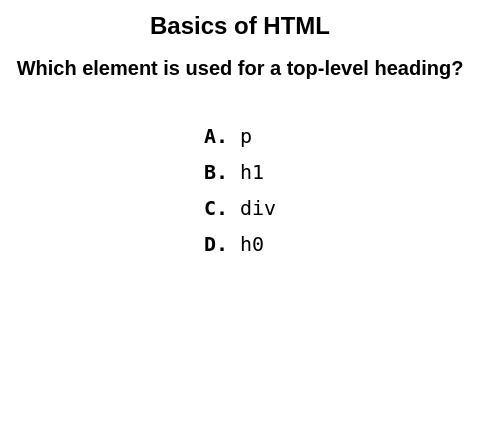
Test: QuizScreen component within App › when the user selects an answer › should display 'Incorrect...' when correct answer selected
The width and height of the screenshot is (480, 425).
Click the list item "h0".
click(252, 244)  # box 240,232 -> 264,256
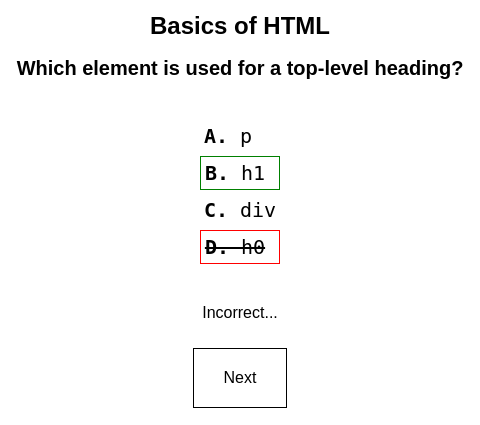
Expected: the text "Incorrect..." is shown, 202,304 -> 278,321
